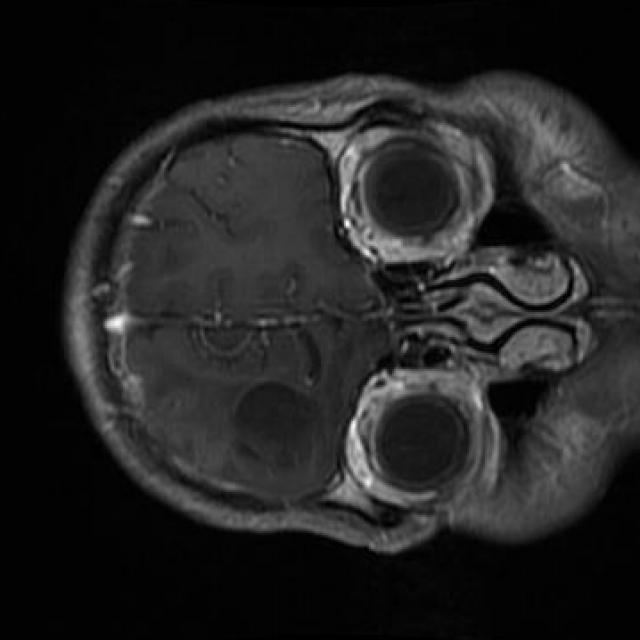glioma: (235, 382, 316, 469)
